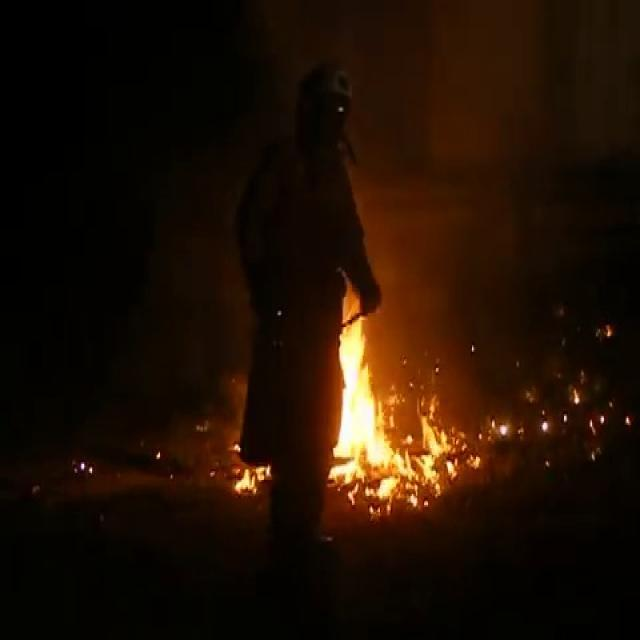Fire: (324, 295, 484, 500)
Smoke: (244, 0, 623, 302)
